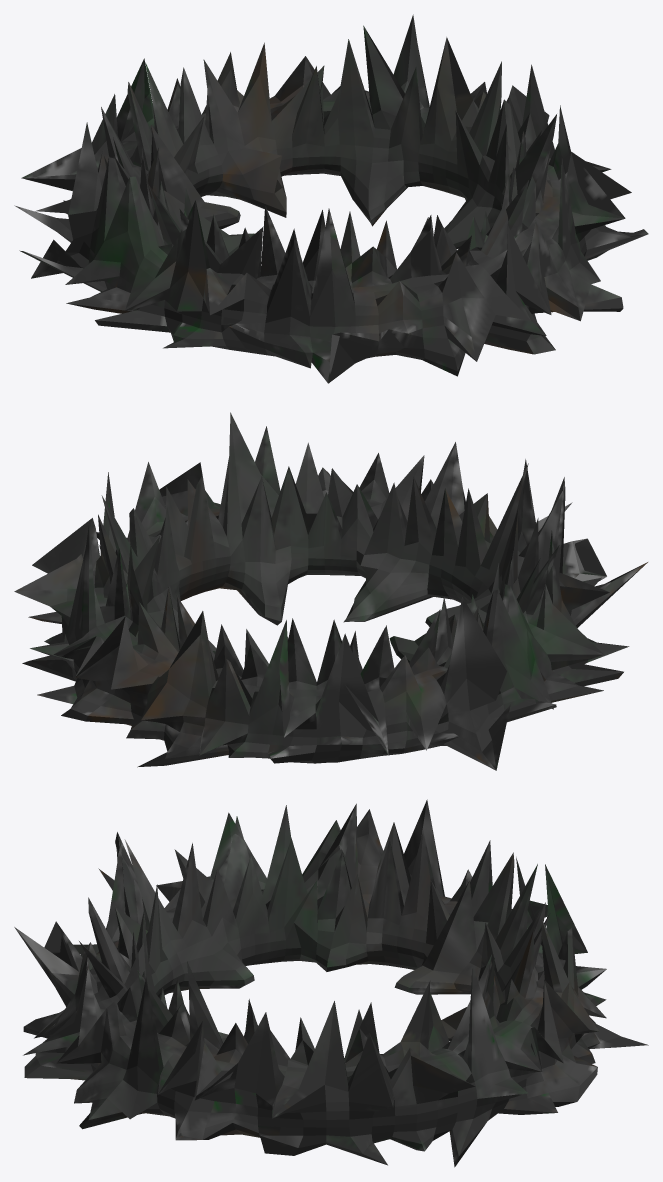
File: MouthGate02.fbx
The picture shows the model from 3 angles, top to bottom: view 1: azimuth 30°, elevation 25°; view 2: azimuth 150°, elevation 25°; view 3: azimuth 270°, elevation 25°; orthographic projection.
Visible parts, largest first — view 1: Torus; view 2: Torus; view 3: Torus.
Boxes of the visible parts, left/top/right/bottom form: Torus: left=14, top=14, right=648, bottom=383; Torus: left=14, top=412, right=647, bottom=770; Torus: left=14, top=799, right=648, bottom=1167.
Bounding box in the file's own units: 348 × 113 × 358.
